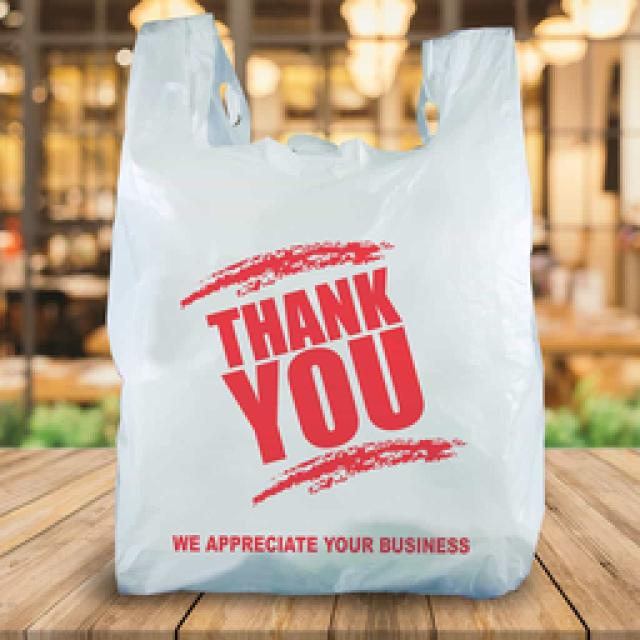plastic: (110, 15, 542, 595), (315, 278, 358, 338)
